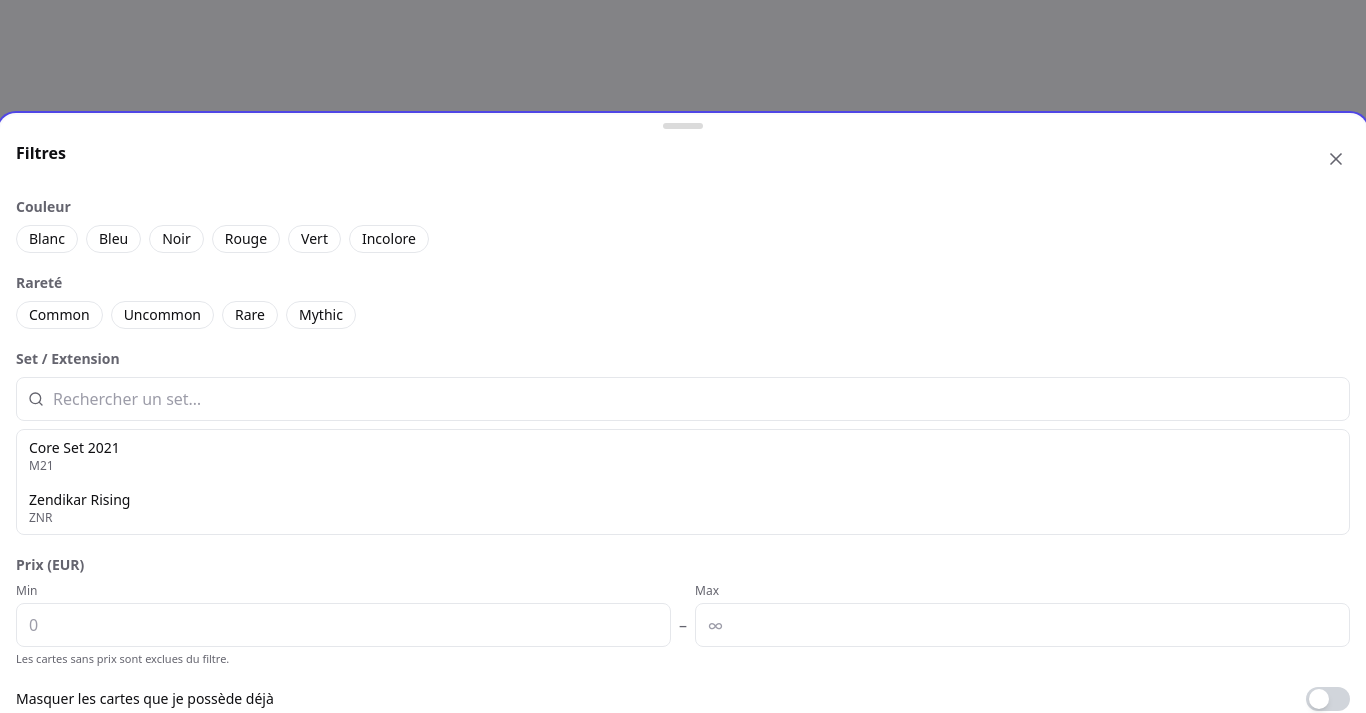
it: SearchFiltersSheet › filters the set list by the search query
Expected: the checkbox labelled "Zendikar Rising znr" is shown, [17, 482, 1349, 534]
Type "zen" into the search field labelled "Rechercher un set…" at x=683, y=399, box [16, 377, 1350, 421]
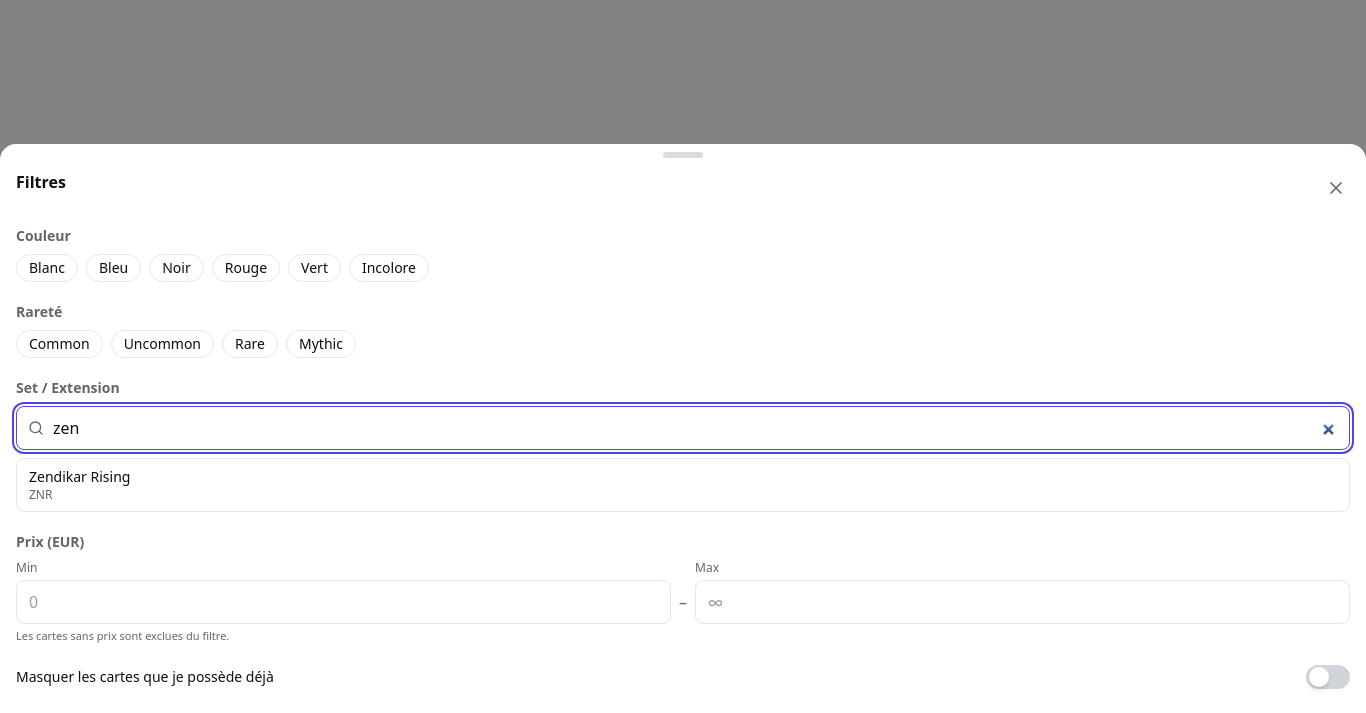
Expected: the number of checkboxes is 1, [17, 458, 1349, 510]
